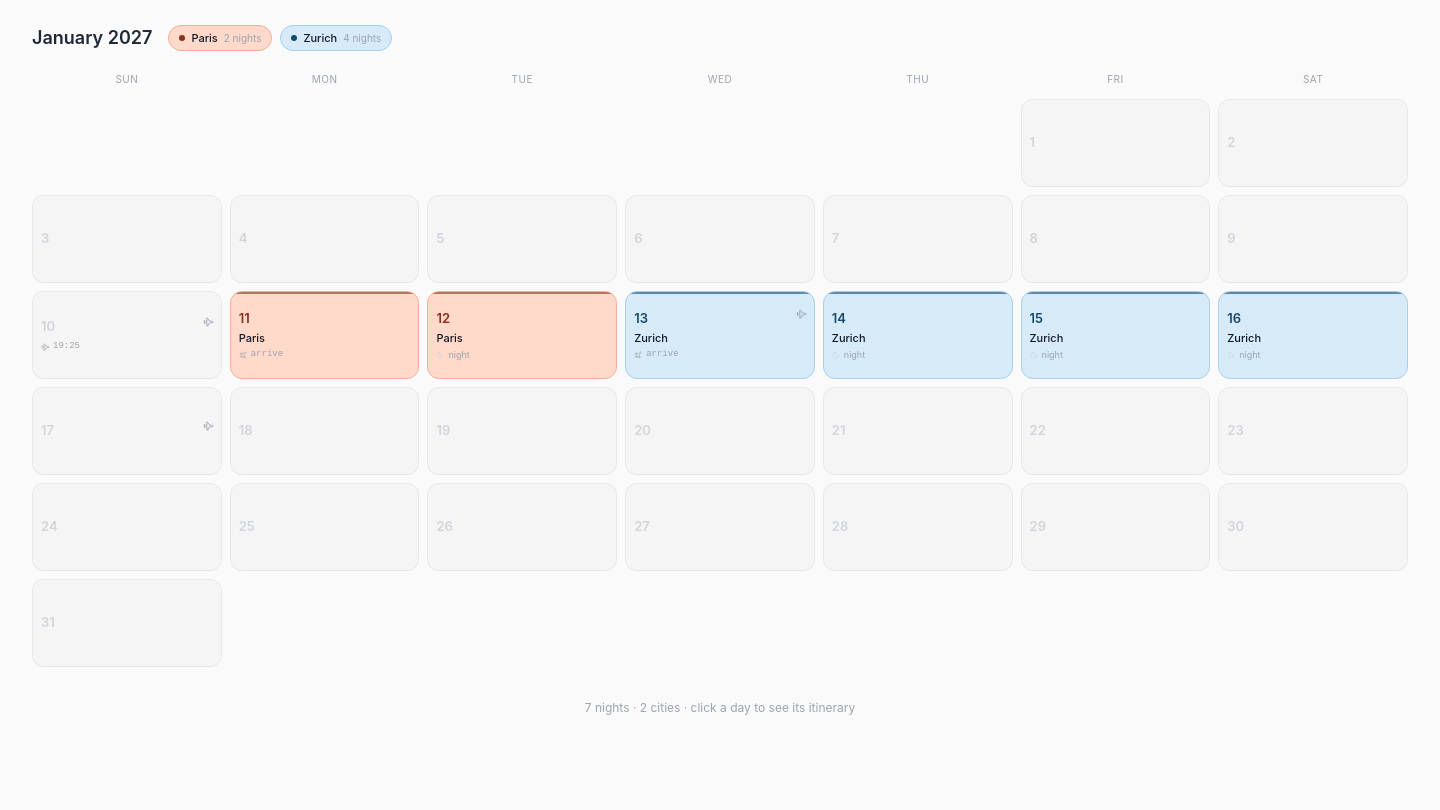
Test case: CalendarView — the home departure day › marks Jan 10 as the departure, and opens its plan: the head-to and the flight
This screenshot has width=1440, height=810.
Step 1. Click the text "19:25" → (66, 347), box x1=53 y1=340 x2=80 y2=354
(page scrolled)
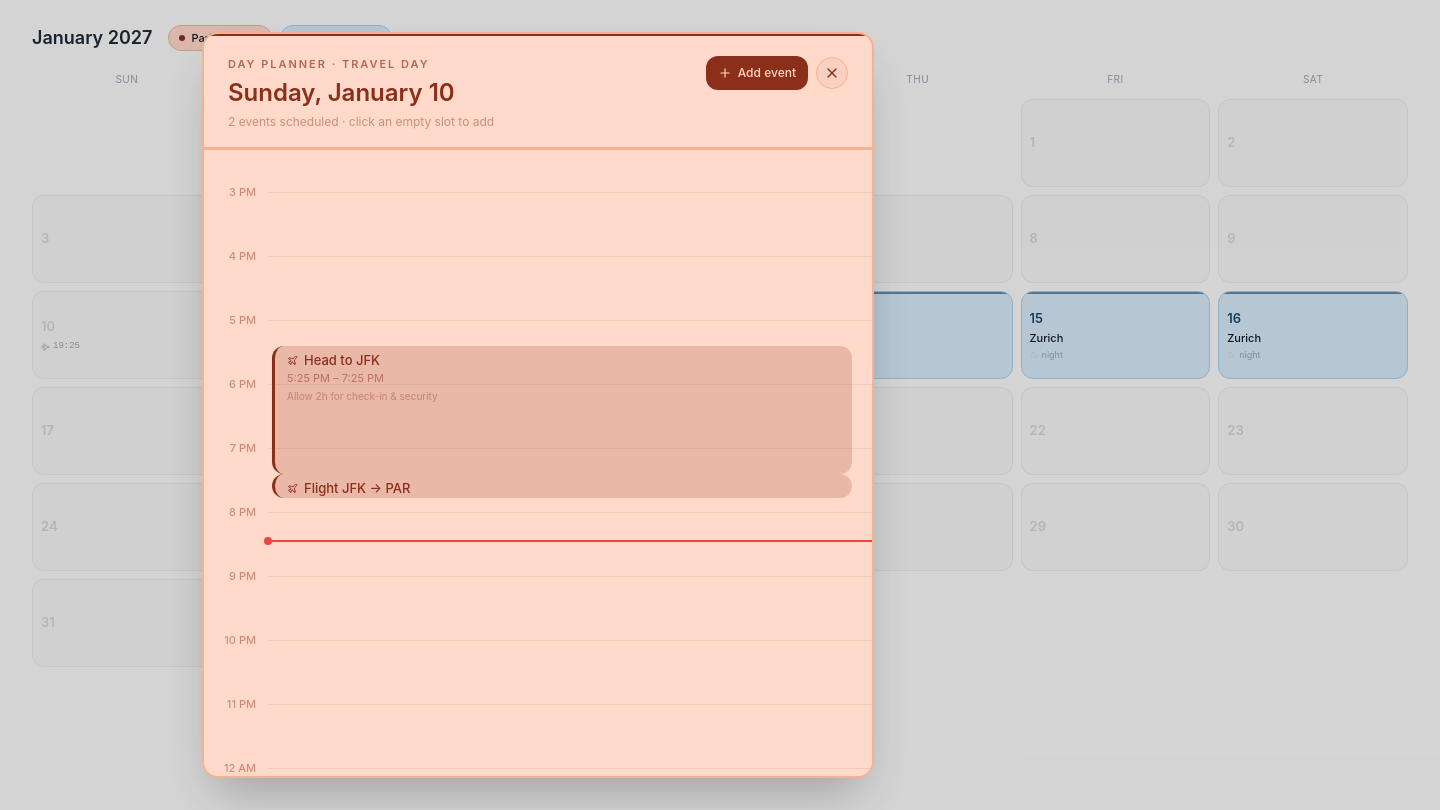
Result: the text "Day Planner · Travel day" is shown at x1=228 y1=57 x2=430 y2=71
Result: the text "Head to JFK" is shown at x1=304 y1=352 x2=380 y2=368
Result: the text "Flight JFK → PAR" is shown at x1=304 y1=480 x2=410 y2=496
